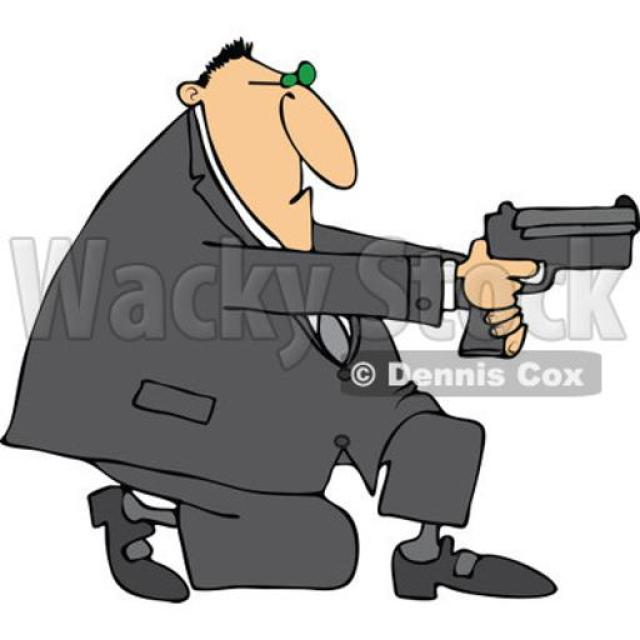pistol: (460, 192, 632, 356)
